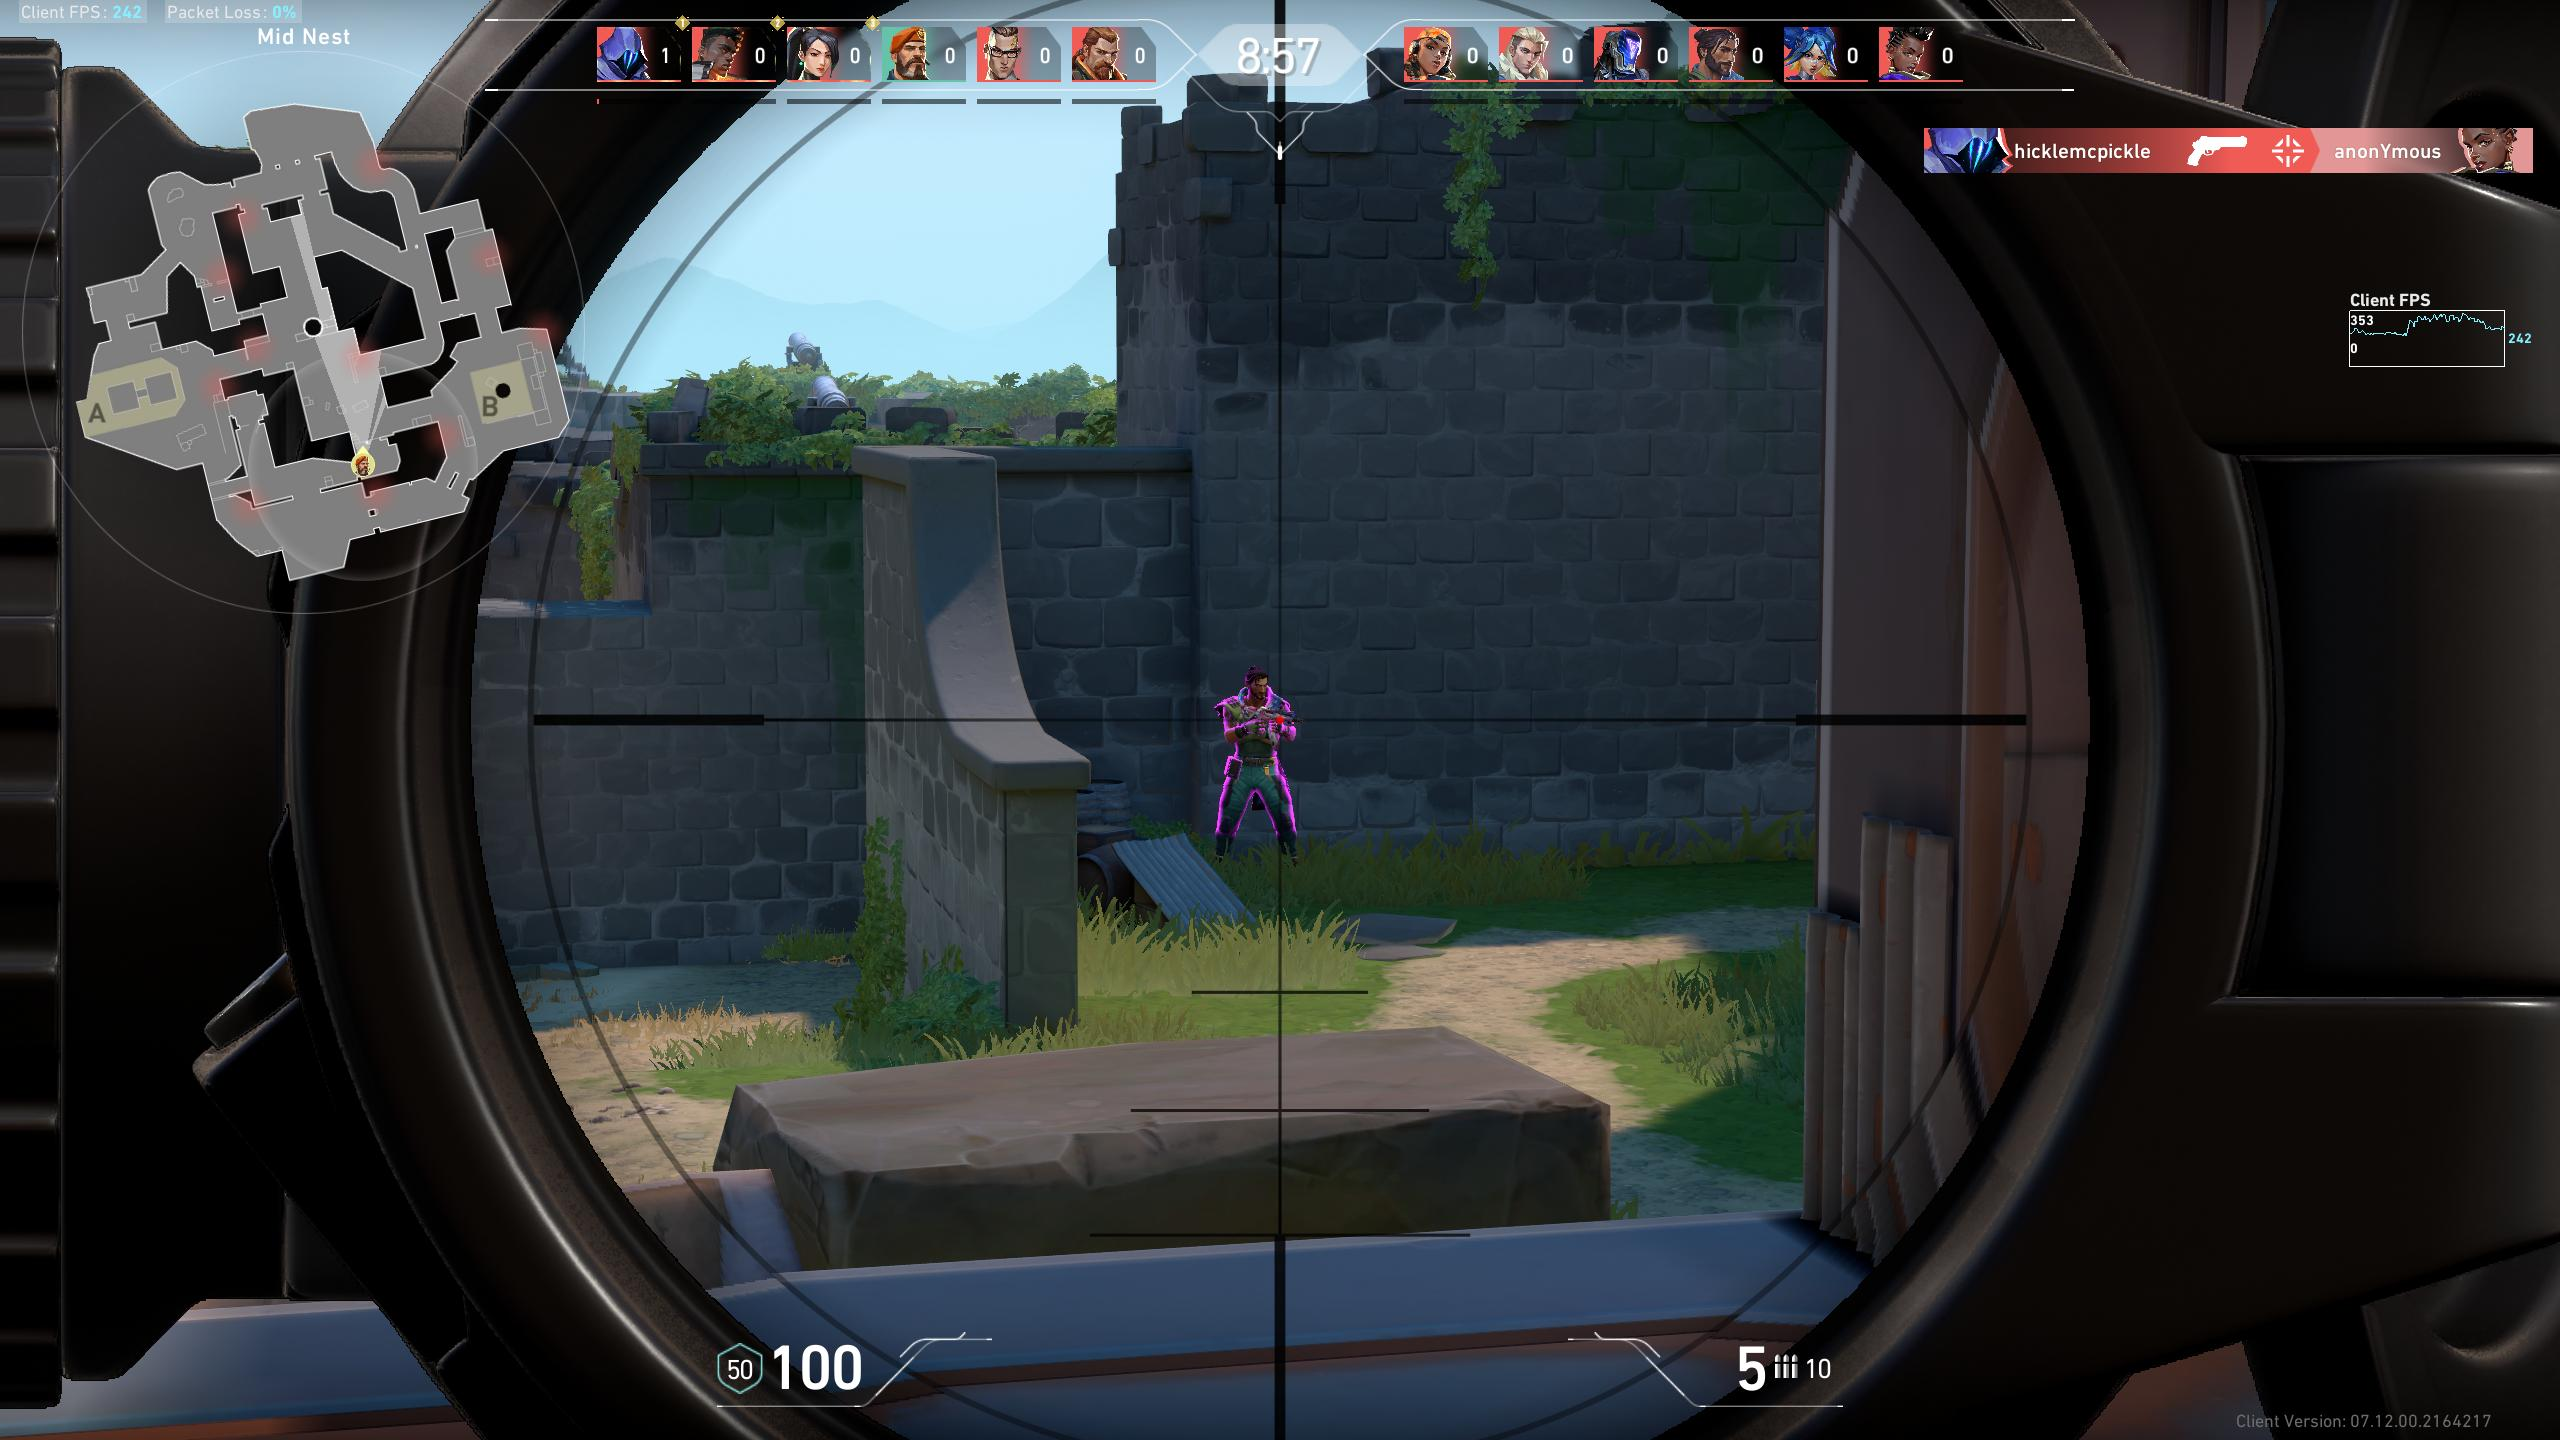enemyBody: (1222, 705, 1294, 781)
enemyHead: (1247, 668, 1273, 709)
